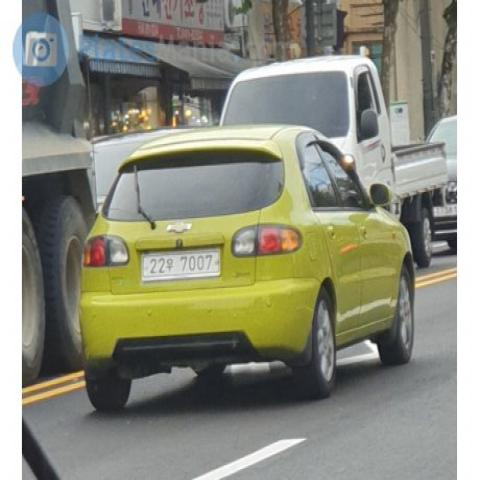LP: (129, 242, 226, 286)
